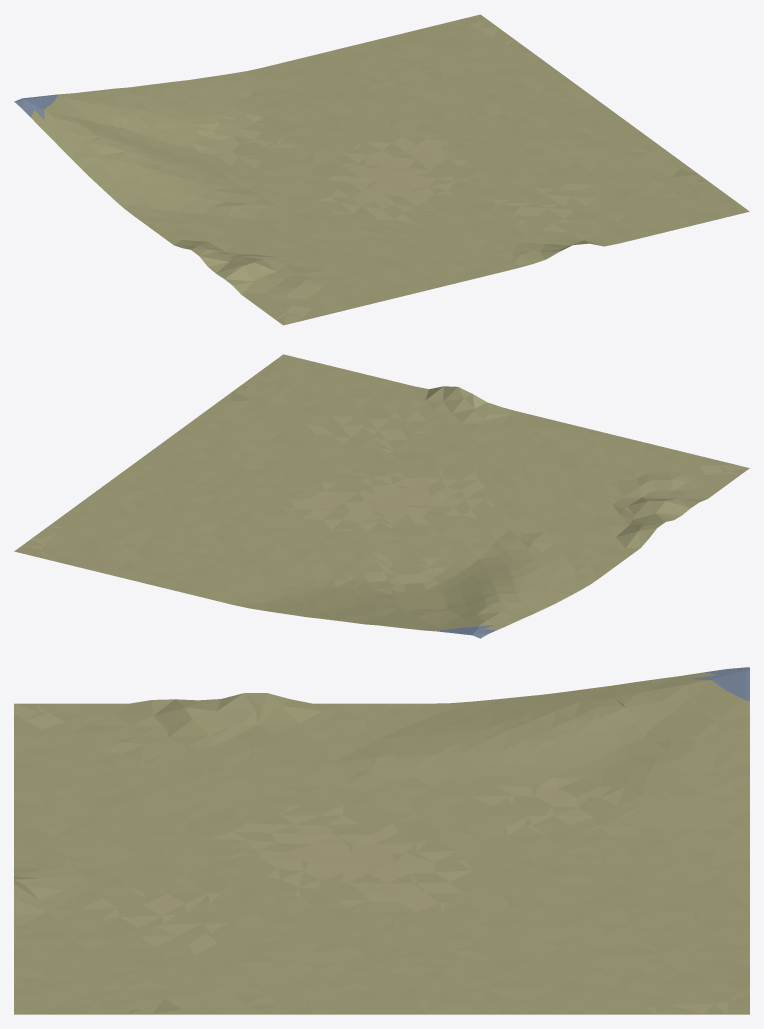
The model's file is Ground_2_-3.glb.
3 renders of one model, top to bottom at view 1: azimuth 30°, elevation 25°; view 2: azimuth 150°, elevation 25°; view 3: azimuth 270°, elevation 25°, orthographic. The views are drawn at different scales.
Visible parts, largest first — view 1: Ground_2_-3; view 2: Ground_2_-3; view 3: Ground_2_-3.
Part boxes in pixels (x1=…): Ground_2_-3: x1=14, y1=14, x2=749, y2=325; Ground_2_-3: x1=14, y1=354, x2=749, y2=638; Ground_2_-3: x1=14, y1=667, x2=749, y2=1014.
Size of the model in its own units: 768 by 44.65 by 768.
